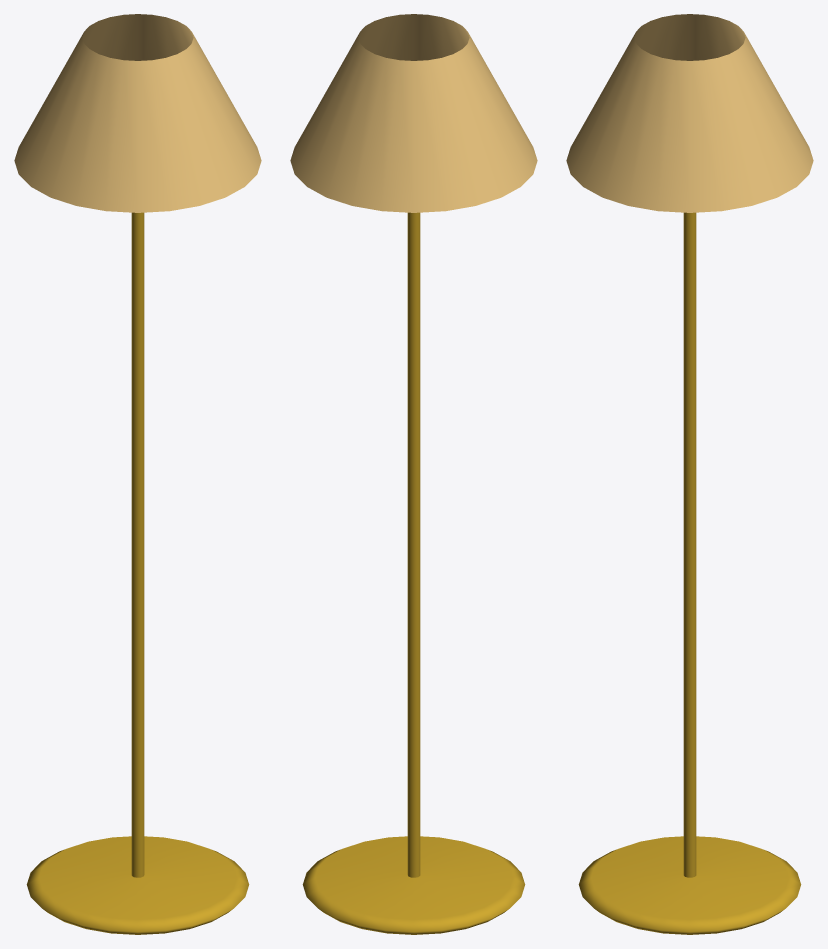
File: FET-FLP-std.glb
The picture shows the model from 3 angles, left to right: view 1: azimuth 30°, elevation 25°; view 2: azimuth 150°, elevation 25°; view 3: azimuth 270°, elevation 25°; orthographic projection.
Visible parts, largest first — view 1: FET-FLP-std; view 2: FET-FLP-std; view 3: FET-FLP-std.
Part boxes in pixels (bbox=[...]): FET-FLP-std: bbox=[14, 14, 261, 934]; FET-FLP-std: bbox=[290, 14, 537, 934]; FET-FLP-std: bbox=[566, 14, 813, 934].
Size of the model in its own units: 0.42 by 1.6 by 0.42.
